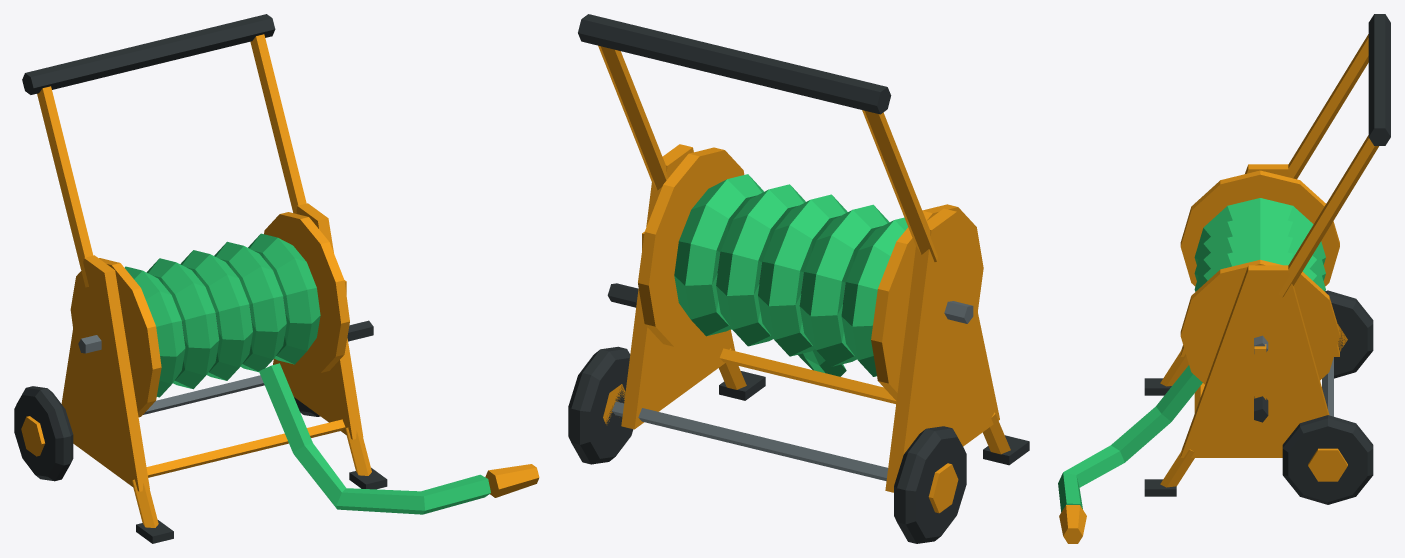
Rendered from schlauchwagen.glb.
3 views of the same model, side by side, from view 1: azimuth 30°, elevation 25°; view 2: azimuth 150°, elevation 25°; view 3: azimuth 270°, elevation 25° (orthographic). The views are drawn at different scales.
Visible parts, largest first — view 1: schlauchwagen-m, trommel-m; view 2: schlauchwagen-m, trommel-m; view 3: schlauchwagen-m, trommel-m.
Boxes of the visible parts, bbox=[...] form: schlauchwagen-m: bbox=[14, 14, 539, 543]; trommel-m: bbox=[70, 212, 373, 417]; schlauchwagen-m: bbox=[568, 14, 1029, 543]; trommel-m: bbox=[607, 147, 983, 400]; schlauchwagen-m: bbox=[1058, 14, 1390, 543]; trommel-m: bbox=[1180, 170, 1339, 422].
Size of the model in its own units: 1.04 by 1.03 by 0.8357.
